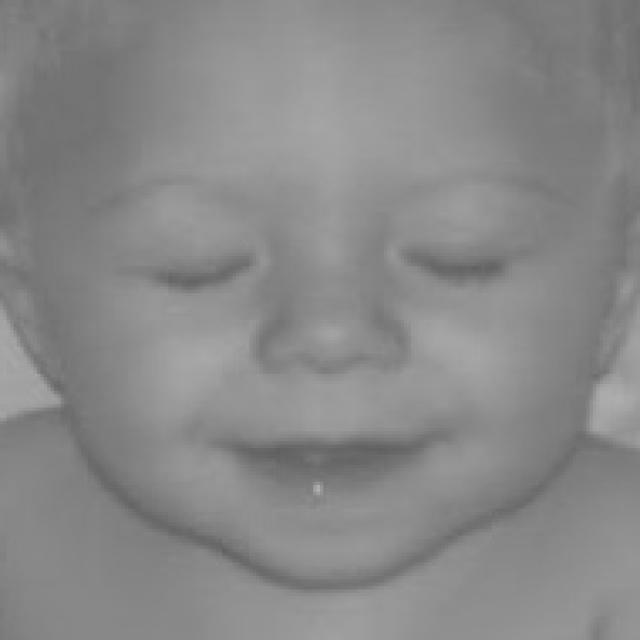real: (43, 10, 607, 580), (111, 212, 550, 309)
